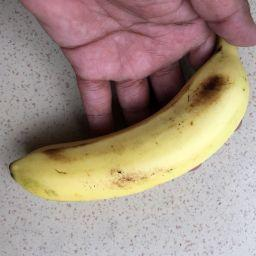Banana Ripe: (25, 53, 256, 212)
